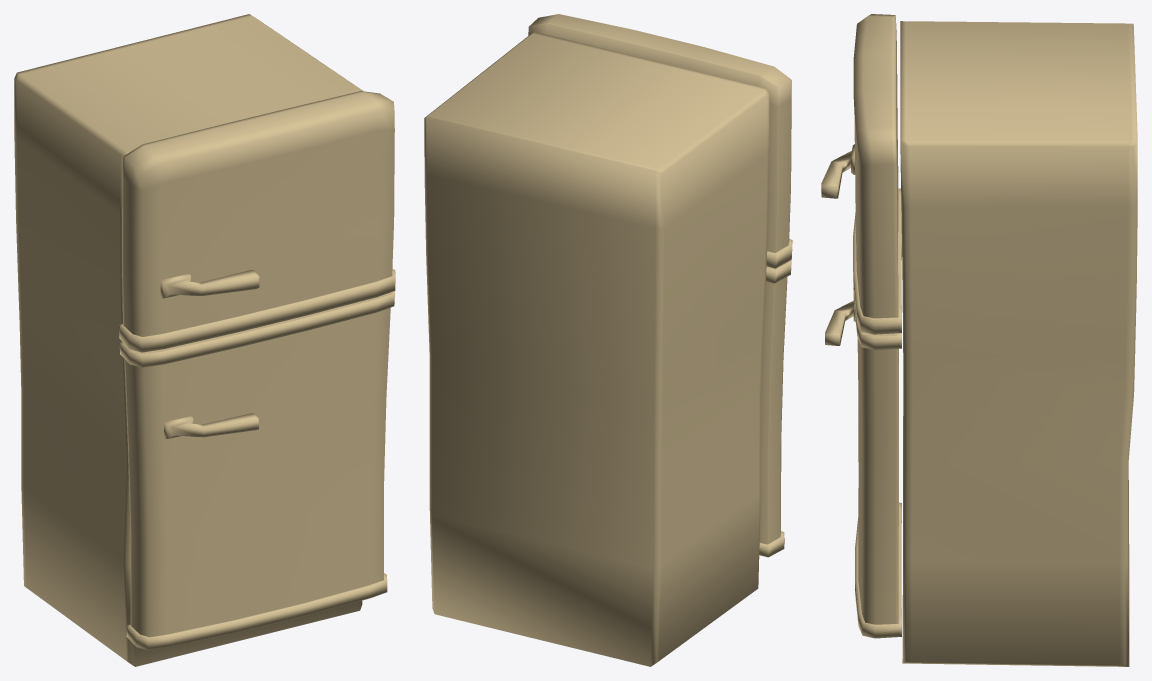
File: Fridge.fbx
3 renders of one model, left to right at view 1: azimuth 30°, elevation 25°; view 2: azimuth 150°, elevation 25°; view 3: azimuth 270°, elevation 25°, orthographic. The views are drawn at different scales.
Parts seen in each view (by area): view 1: Fridge; view 2: Fridge; view 3: Fridge.
Boxes of the visible parts, box(x1,y1,x2,y2) form: Fridge: box(14, 14, 395, 666); Fridge: box(424, 14, 792, 666); Fridge: box(821, 14, 1137, 666).
Bounding box in the file's own units: 169 × 319 × 169.
